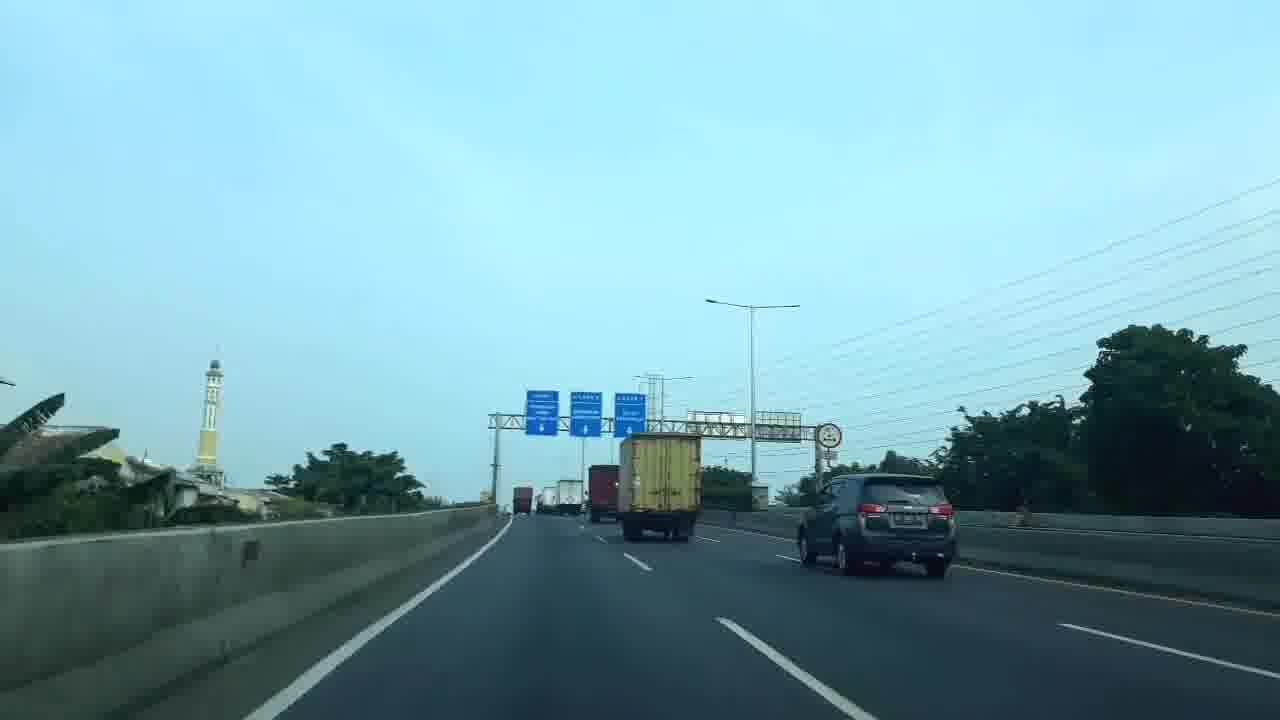plate_positive: (893, 512, 924, 525)
